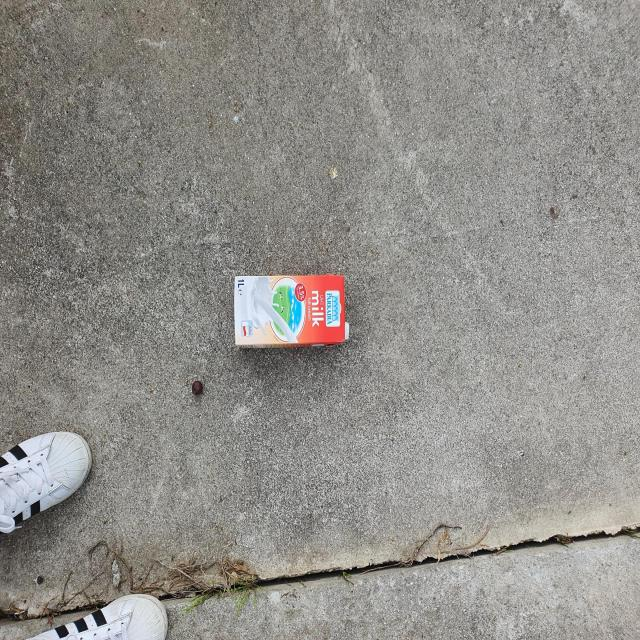paperpack: (234, 275, 349, 347)
